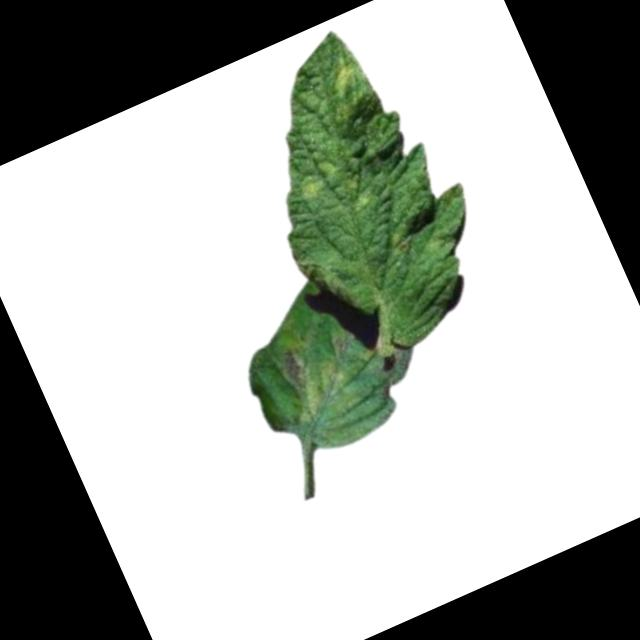Leaf_Mold: (273, 332, 358, 429), (326, 59, 364, 101), (296, 168, 332, 206)
